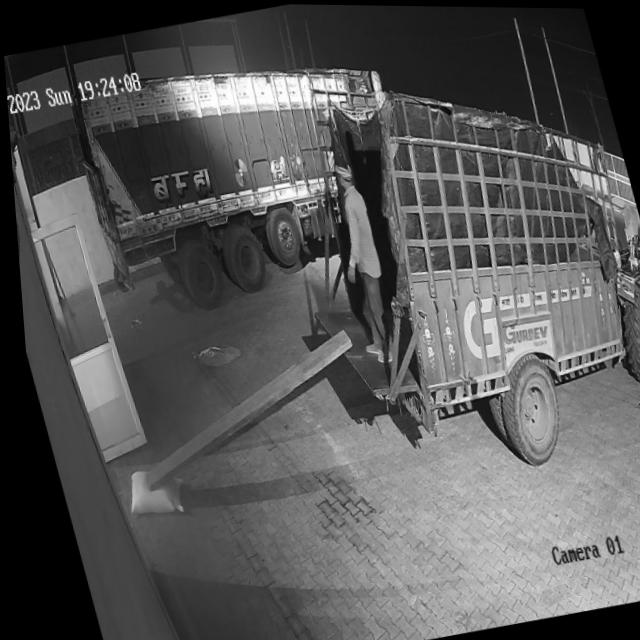sack: (113, 462, 181, 521)
